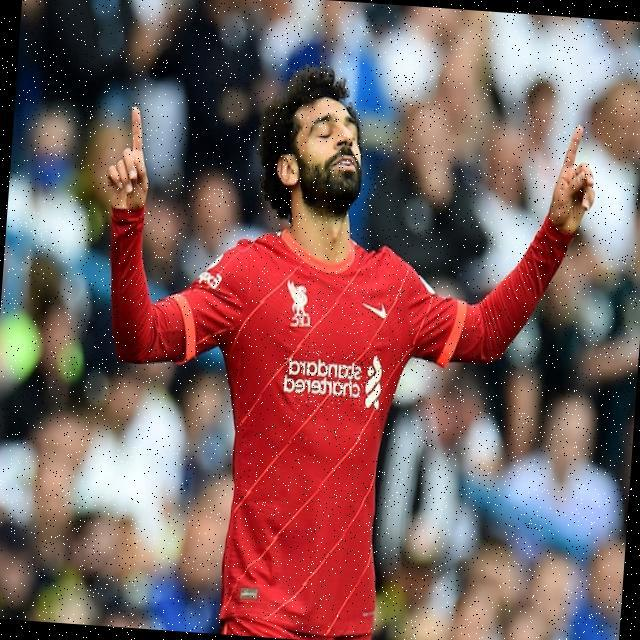Nike: (360, 301, 387, 318)
Standard Chartered: (281, 349, 383, 412)
